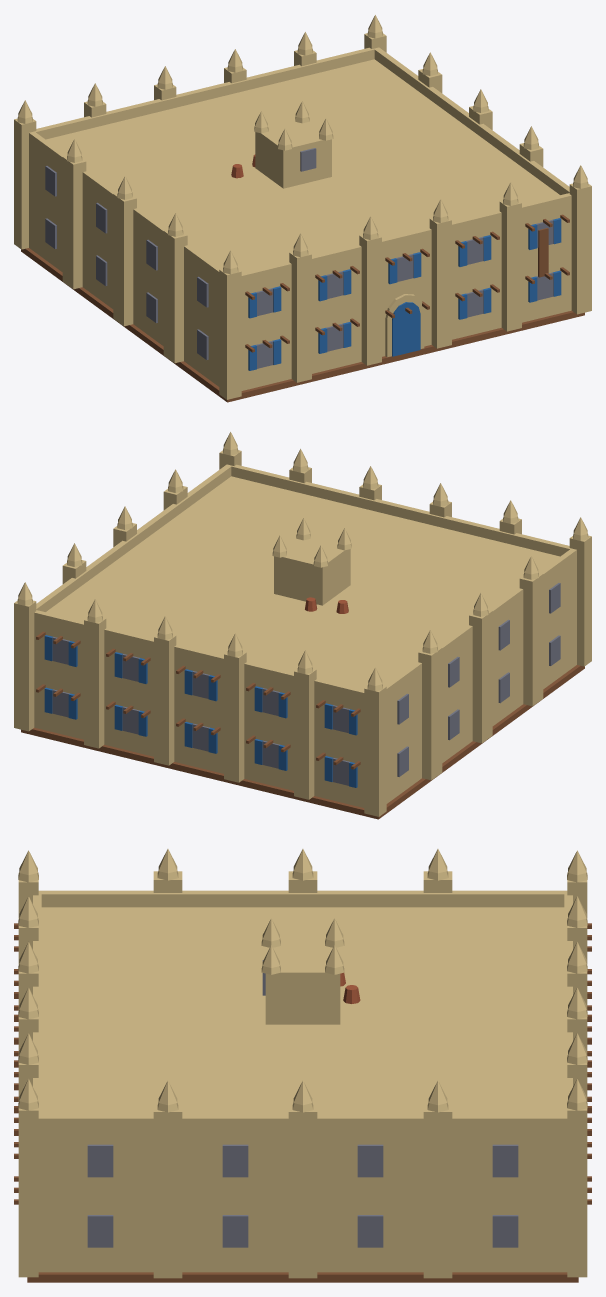
The model's file is house-2x2-2f-banco-a.glb.
3 renders of one model, top to bottom at view 1: azimuth 30°, elevation 25°; view 2: azimuth 150°, elevation 25°; view 3: azimuth 270°, elevation 25°, orthographic. The views are drawn at different scales.
Parts seen in each view (by area): view 1: house-2x2-2f-banco-a; view 2: house-2x2-2f-banco-a; view 3: house-2x2-2f-banco-a.
Boxes of the visible parts, x1,y1,x2,y2 form: house-2x2-2f-banco-a: (14,15,591,402); house-2x2-2f-banco-a: (14,432,591,819); house-2x2-2f-banco-a: (14,849,591,1282).
Bounding box in the file's own units: 1.99 × 0.878 × 2.01.
1 material, 1 textured.
